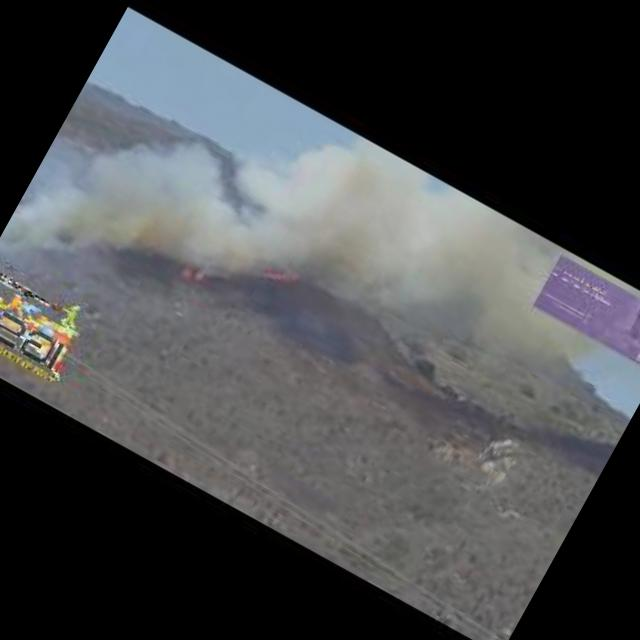fire: (262, 262, 300, 292), (178, 260, 208, 288)
smoke: (217, 106, 565, 407), (48, 96, 262, 300)
